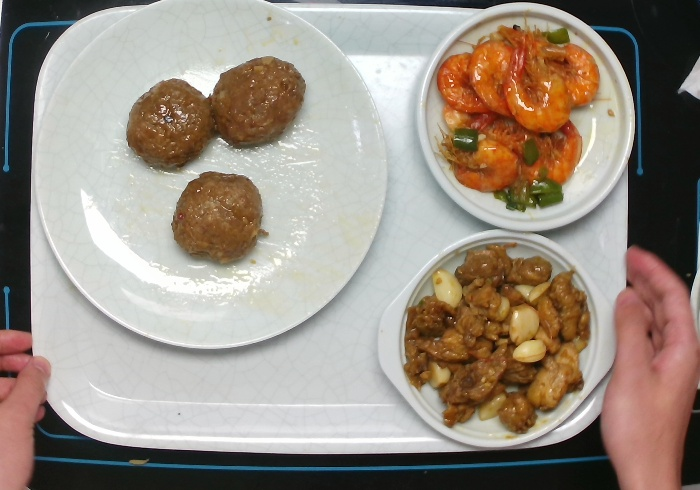JYsf-Da_Yuan_Pan: (27, 1, 397, 355)
JYsf-Shuang_Er_Pan: (373, 226, 622, 452)
JYsf-Xiao_Yuan_Pan: (413, 1, 639, 233)
